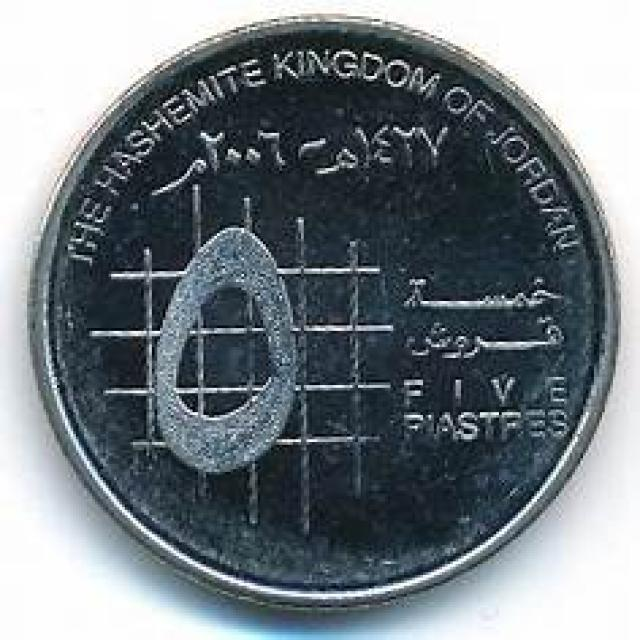5-coins: (26, 14, 622, 614)
